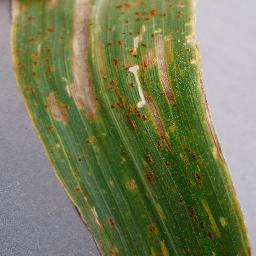Gray_Leaf_Spot: (66, 0, 110, 130), (7, 16, 64, 45), (6, 44, 58, 74), (193, 60, 220, 115), (178, 132, 205, 187), (152, 62, 182, 111), (72, 189, 104, 232), (135, 0, 177, 30), (201, 109, 228, 155), (145, 23, 173, 66), (44, 76, 68, 124), (148, 176, 171, 224), (107, 46, 143, 74), (202, 198, 221, 250), (216, 145, 239, 187), (57, 161, 75, 213), (111, 0, 142, 29), (38, 128, 61, 167), (179, 186, 200, 227), (150, 107, 169, 150), (126, 64, 156, 91), (183, 30, 206, 65), (121, 26, 149, 54), (8, 0, 58, 15), (229, 180, 246, 222), (108, 73, 126, 111), (237, 220, 256, 256), (91, 235, 123, 256), (15, 70, 38, 98), (23, 94, 39, 132), (139, 236, 169, 256), (136, 82, 154, 113), (179, 0, 196, 32), (67, 161, 83, 195), (125, 99, 139, 131), (82, 147, 96, 179), (105, 212, 121, 233), (109, 25, 122, 48), (86, 125, 99, 148), (43, 114, 55, 138), (126, 170, 138, 194), (161, 151, 175, 171), (162, 233, 173, 256), (145, 160, 156, 182), (148, 211, 156, 238), (143, 147, 152, 166), (181, 242, 193, 256), (119, 149, 126, 170), (222, 211, 227, 240), (168, 118, 177, 134), (141, 107, 148, 126), (101, 127, 111, 140), (68, 145, 73, 167), (78, 149, 82, 164), (110, 177, 114, 192)
